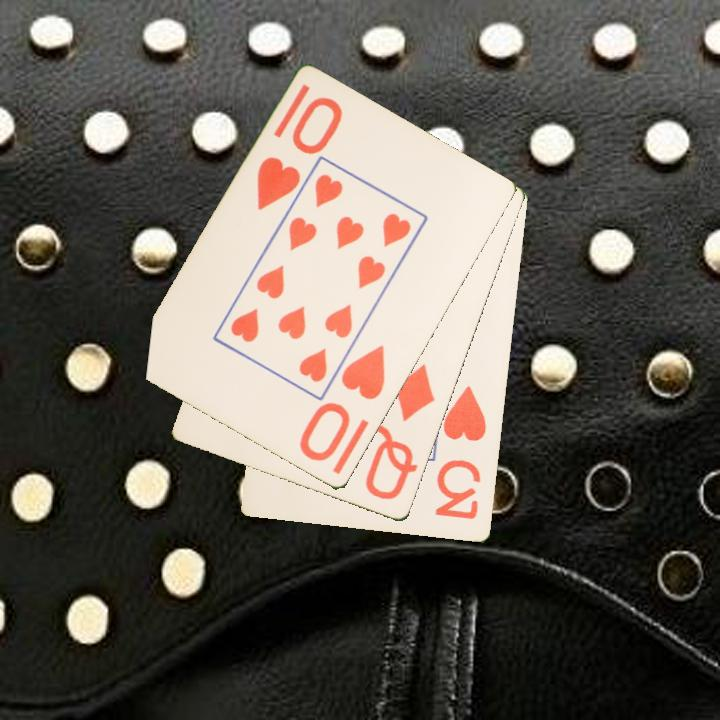10h: (296, 341, 389, 465), (253, 93, 345, 214)
3h: (432, 383, 490, 523)
Qd: (361, 360, 439, 504)
